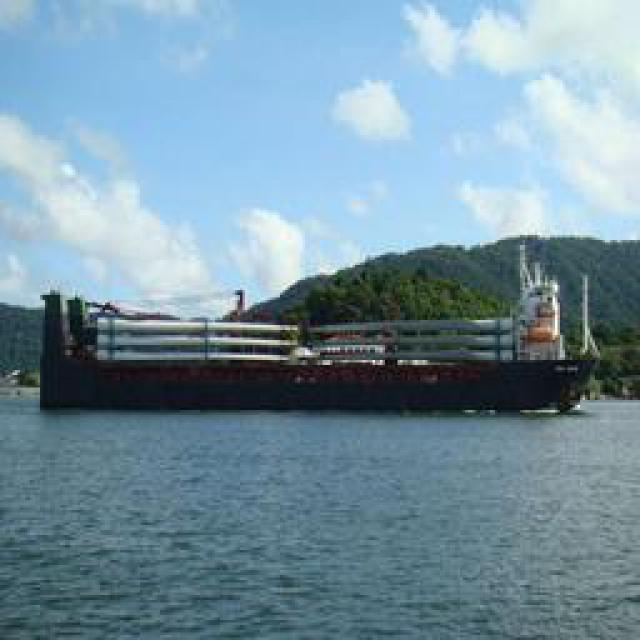Ship: (49, 296, 592, 416)
